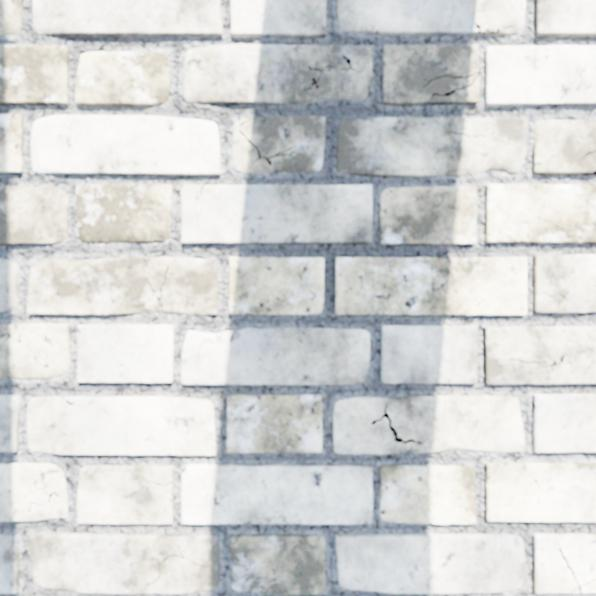brick: (29, 533, 219, 593), (31, 115, 220, 175), (183, 44, 371, 104), (335, 534, 524, 593), (337, 117, 526, 176), (27, 396, 215, 455), (335, 257, 526, 315), (182, 465, 372, 523), (181, 185, 371, 243), (333, 395, 523, 453), (27, 257, 217, 314), (181, 327, 369, 384), (33, 0, 222, 37), (485, 45, 595, 106), (337, 0, 524, 35), (485, 462, 595, 521), (485, 184, 595, 242), (484, 327, 595, 384), (380, 464, 476, 524), (382, 45, 478, 104), (231, 534, 325, 594), (379, 186, 476, 244), (77, 465, 173, 523), (380, 326, 477, 383), (77, 325, 173, 382), (76, 185, 172, 242), (227, 394, 321, 452), (229, 257, 323, 314), (233, 116, 324, 172), (75, 52, 169, 105), (0, 45, 68, 104), (0, 187, 68, 244), (0, 463, 67, 520), (0, 324, 69, 379), (532, 533, 595, 593), (532, 394, 595, 452), (533, 255, 595, 313), (231, 0, 326, 37), (532, 120, 595, 174), (534, 0, 595, 36), (0, 114, 23, 173), (0, 534, 19, 593), (0, 395, 19, 451), (0, 259, 19, 311), (0, 0, 23, 34), (582, 582, 595, 592)
crack: (239, 117, 297, 166), (10, 477, 58, 520), (421, 70, 479, 100), (558, 546, 595, 593), (473, 21, 516, 35), (193, 185, 204, 221), (142, 479, 173, 486), (578, 150, 595, 161), (60, 396, 75, 406), (520, 0, 524, 11), (76, 327, 82, 334), (180, 184, 184, 188), (592, 170, 595, 174)
